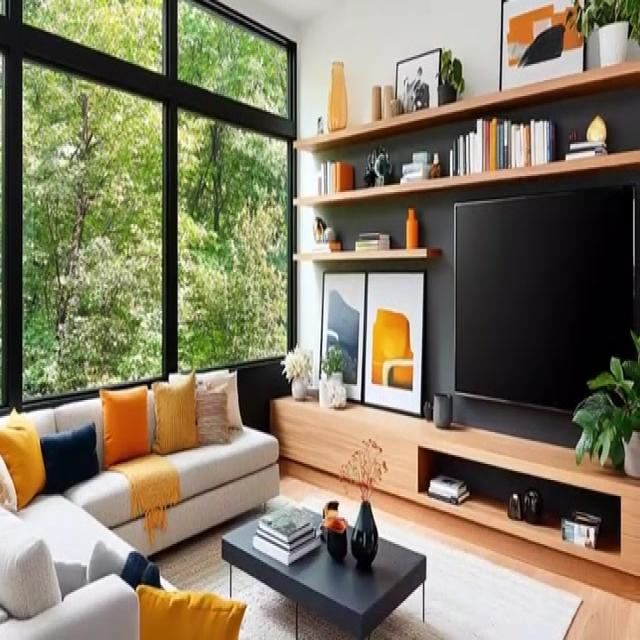obstacle: (0, 366, 280, 638), (273, 388, 640, 584), (220, 500, 426, 638)
